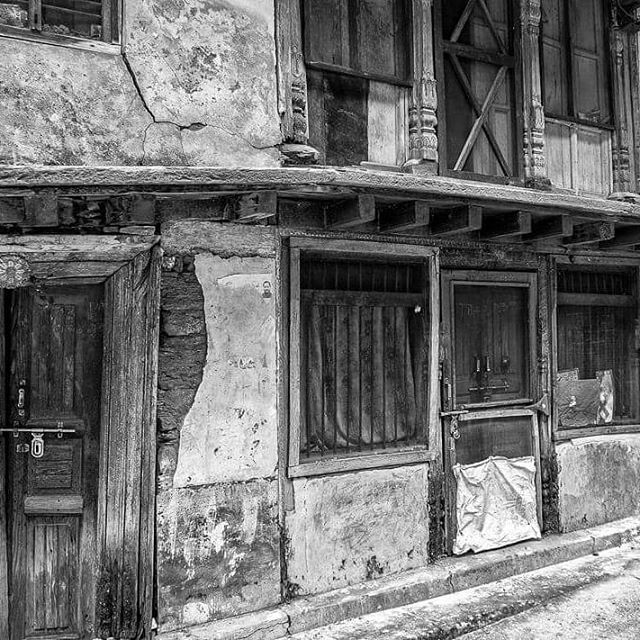building: (1, 1, 637, 637)
door: (448, 277, 557, 537)
